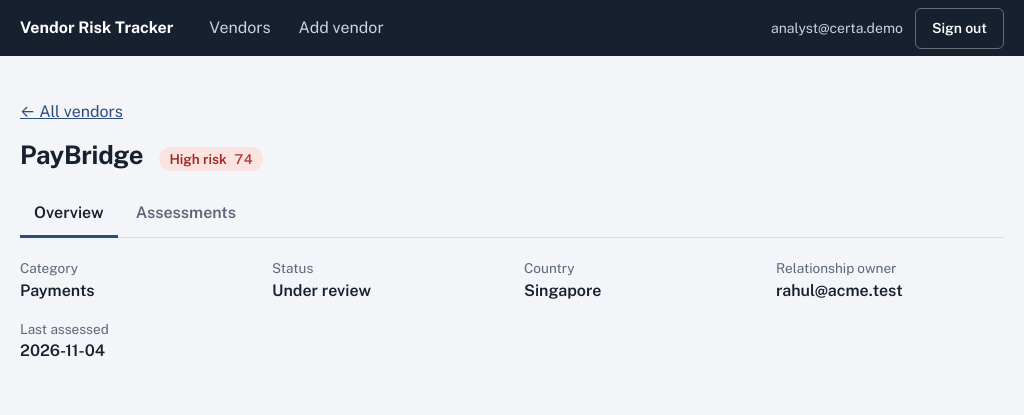
vendor detail › opens a vendor and switches between nested tabs
Expected: the heading "PayBridge" is shown, [20,140,143,171]
Expected: the text "Singapore" is shown, [524,281,602,300]
Click the link "Assessments".
click(186, 213)  # box [136,203,236,222]
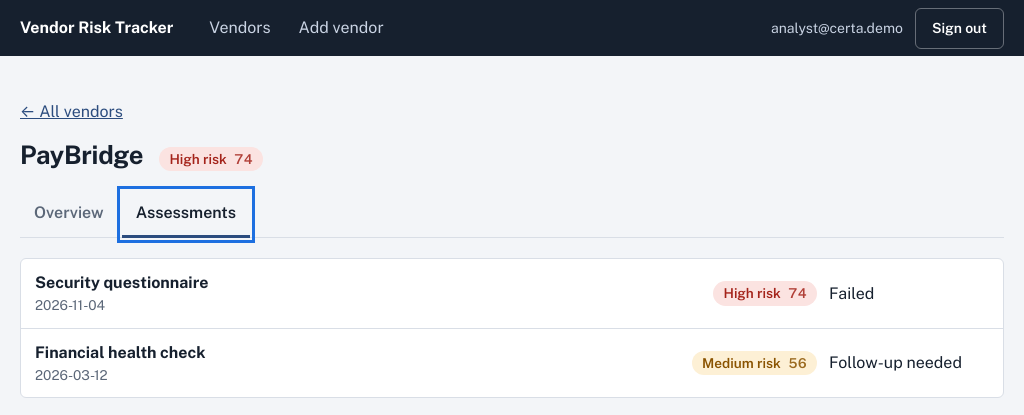
Expected: the text "Security questionnaire" is shown, [35,273,208,292]
